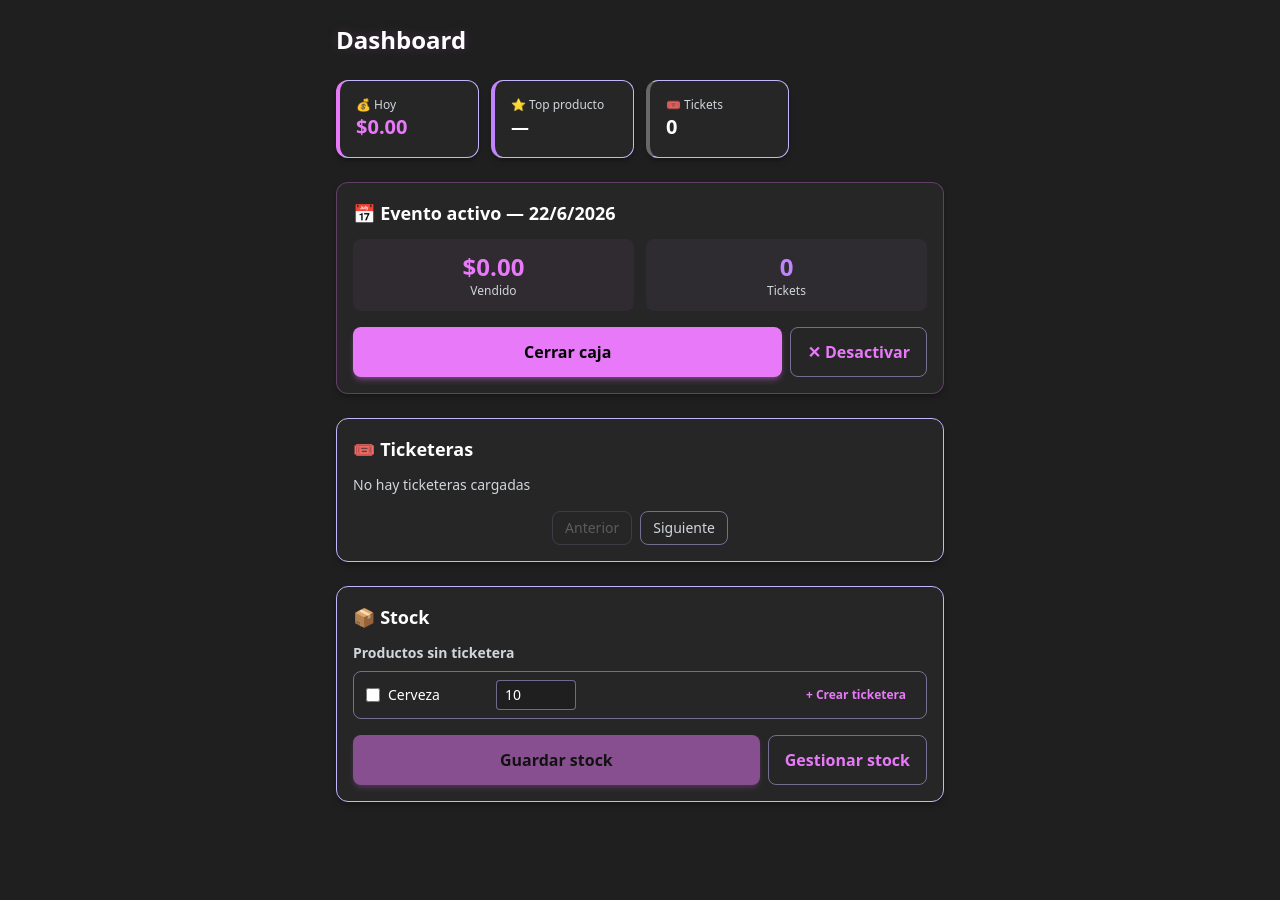
Test: Dashboard › shows modal to create ticketera when clicking crear
The width and height of the screenshot is (1280, 900).
Step 1. Click the button "+ Crear ticketera" → (856, 695), box [798,683,914,707]
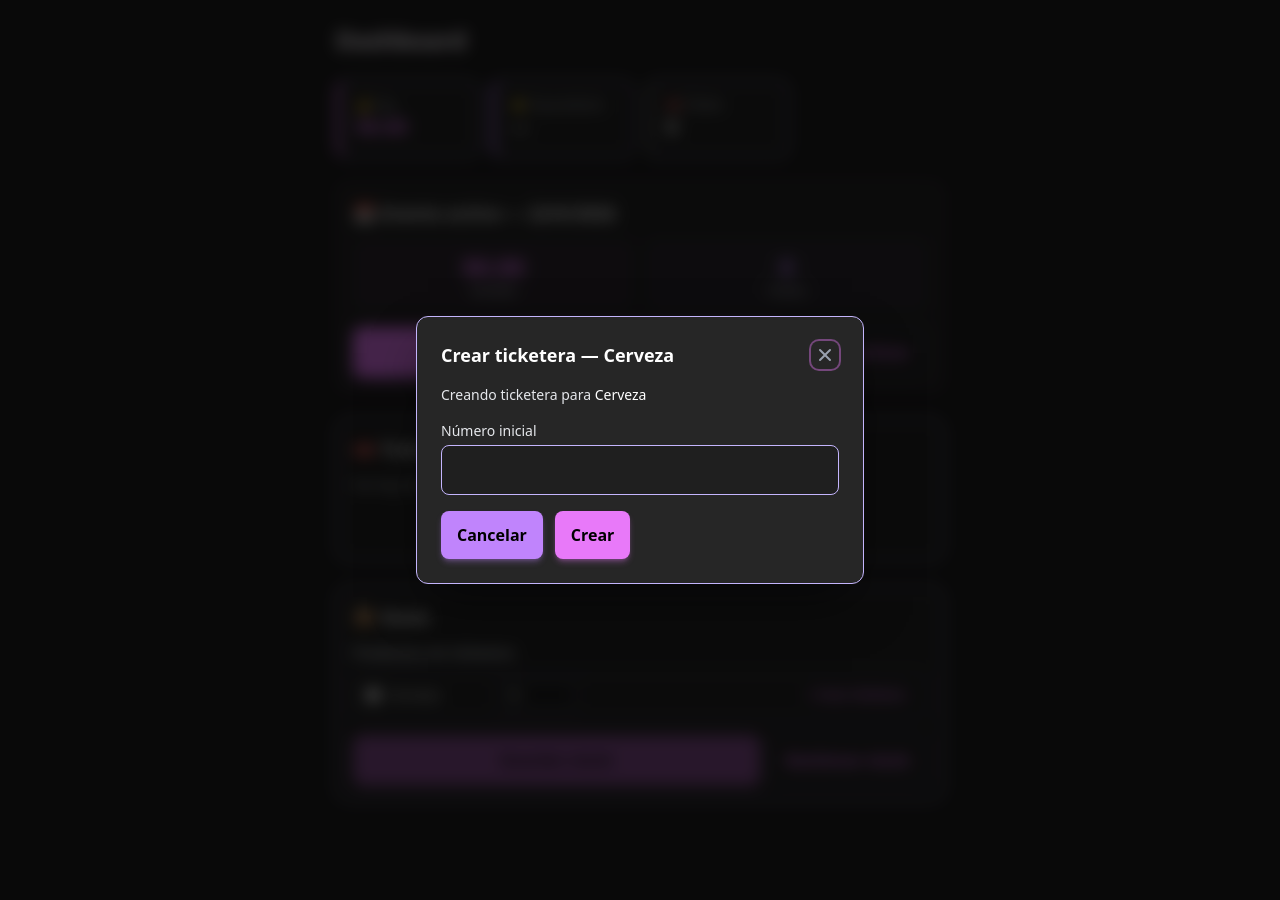
expect the heading "Crear ticketera — Cerveza" is shown: met, box [441,341,674,369]
